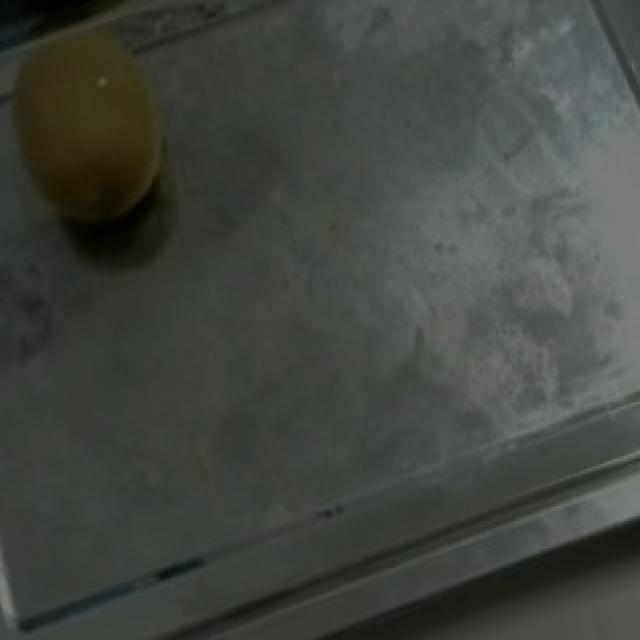Fruit: (0, 0, 202, 260)
